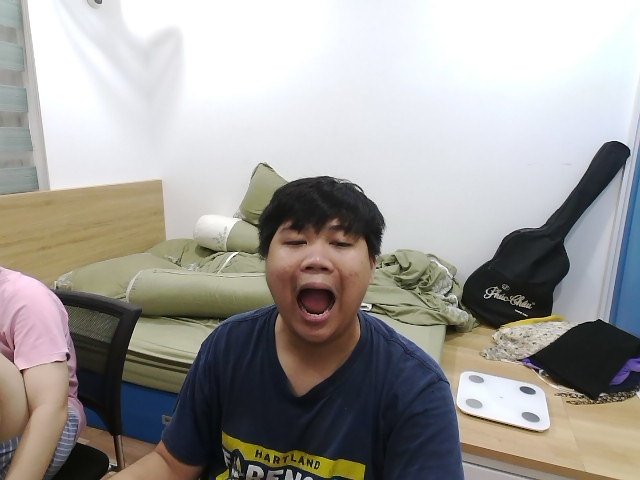face: (258, 177, 386, 344)
